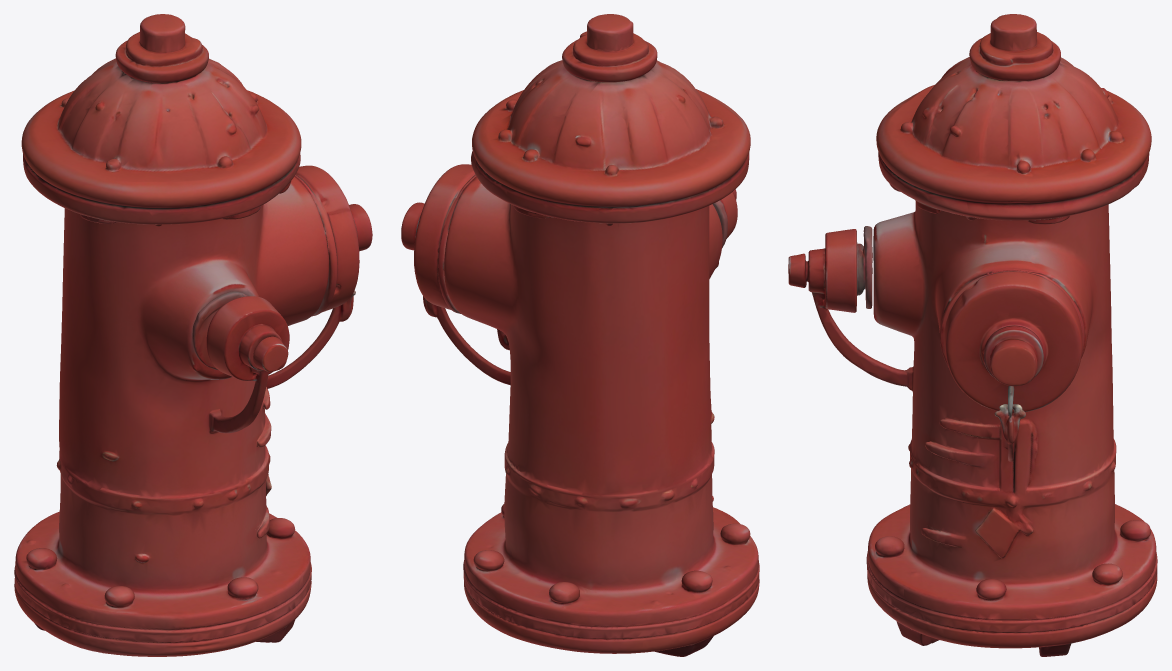
The model's file is prop-fire-hydrant.glb.
The picture shows the model from 3 angles, left to right: view 1: azimuth 30°, elevation 25°; view 2: azimuth 150°, elevation 25°; view 3: azimuth 270°, elevation 25°; orthographic projection.
Parts seen in each view (by area): view 1: tripo_node_75e683a5-45f5-4c6f-98ad-4d99fdcb59d9; view 2: tripo_node_75e683a5-45f5-4c6f-98ad-4d99fdcb59d9; view 3: tripo_node_75e683a5-45f5-4c6f-98ad-4d99fdcb59d9.
Boxes of the visible parts, left/top/right/bottom form: tripo_node_75e683a5-45f5-4c6f-98ad-4d99fdcb59d9: left=14, top=14, right=372, bottom=656; tripo_node_75e683a5-45f5-4c6f-98ad-4d99fdcb59d9: left=401, top=14, right=759, bottom=656; tripo_node_75e683a5-45f5-4c6f-98ad-4d99fdcb59d9: left=788, top=14, right=1157, bottom=656.
Bounding box in the file's own units: 0.5729 × 1 × 0.5678.
Materials: 1 (1 with a texture image).
